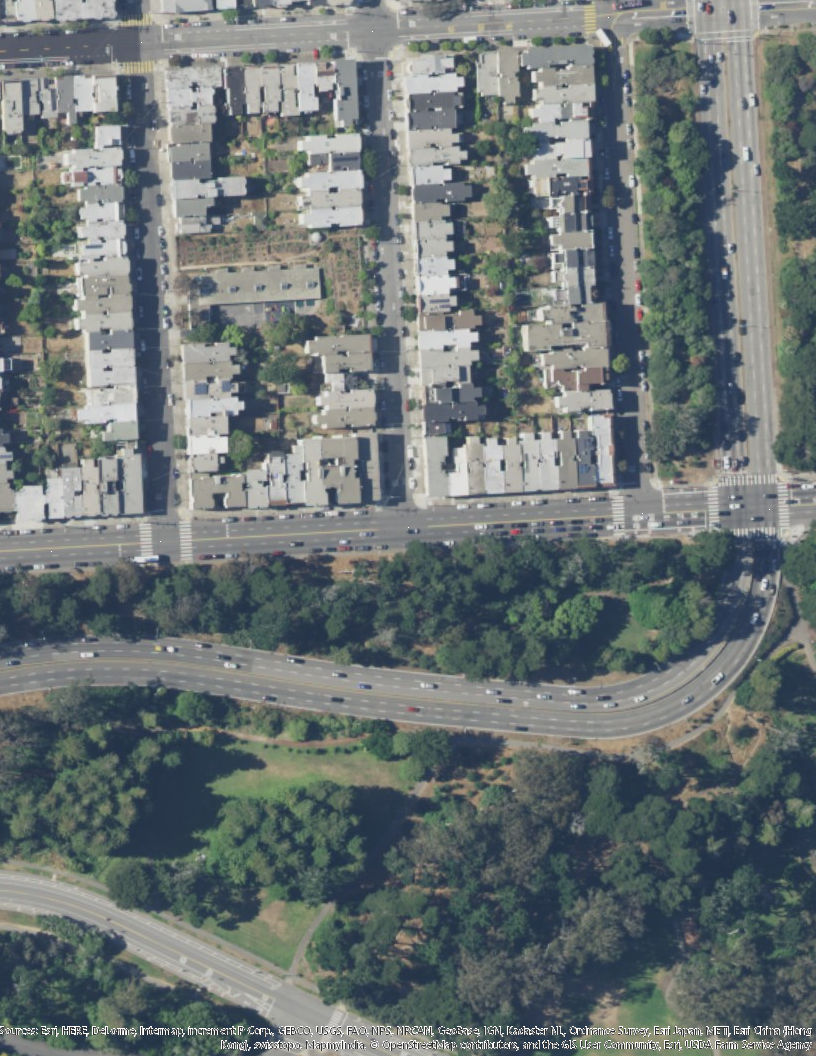zebracross: (723, 474, 783, 485), (733, 525, 778, 539), (118, 11, 154, 28), (777, 486, 791, 526), (582, 2, 598, 34), (611, 495, 626, 528), (180, 520, 191, 562), (121, 59, 153, 73), (709, 487, 720, 527), (140, 522, 152, 558)
